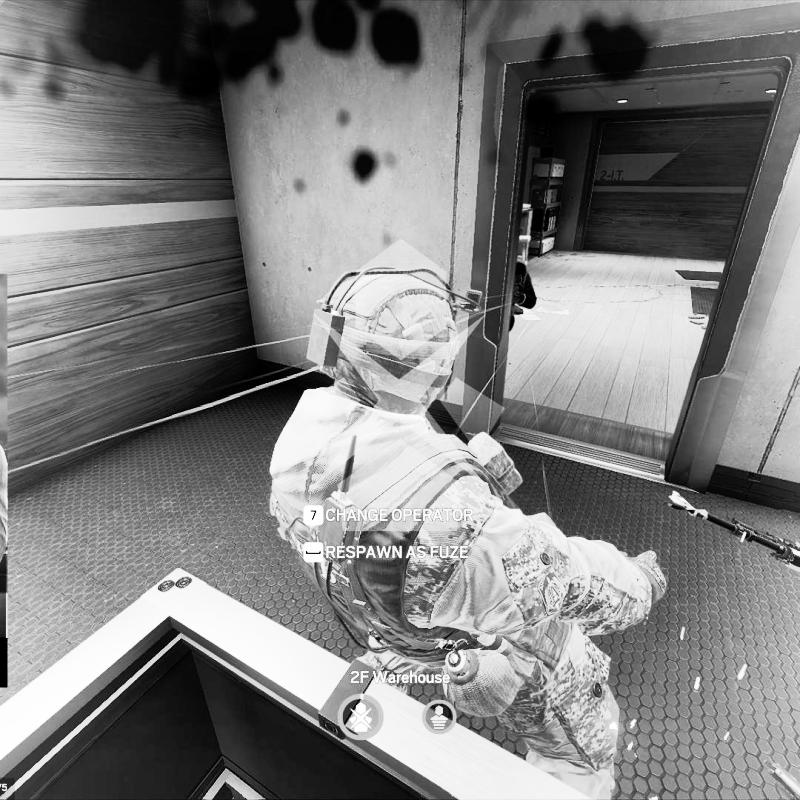Character: (263, 257, 669, 800), (507, 259, 538, 335)
Head: (305, 254, 465, 420), (513, 260, 528, 285)
